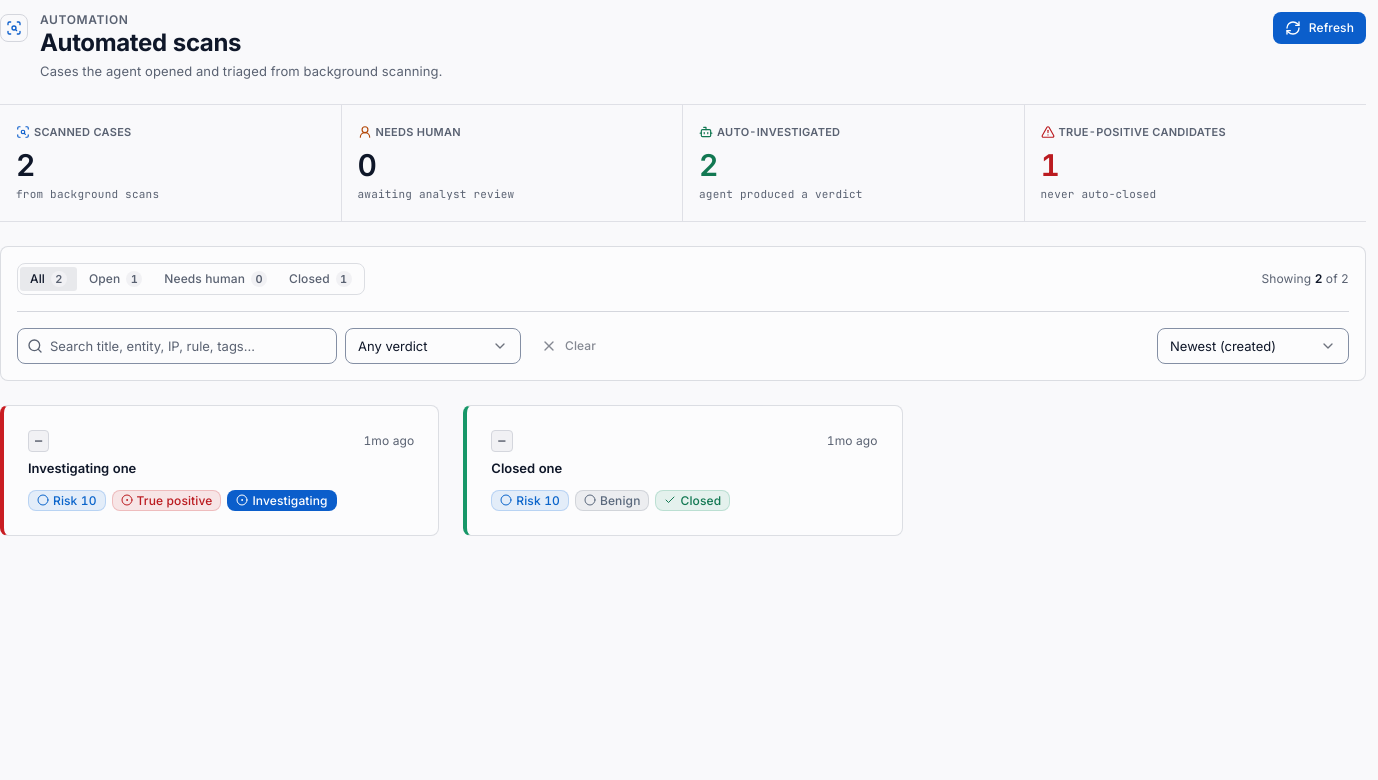
Test: Scans — Round-6 sweep › counts an investigating case under "Open" and keeps pill counts summing to All
Expected: the heading "Investigating one" is shown, [28,460,136,476]
Expected: the heading "Closed one" is shown, [491,460,562,476]
// Filtering to Open shows the investigating case and hides the closed one.
Click the radio button labelled "Open 1": coordinates (116, 279) [79,267,152,291]
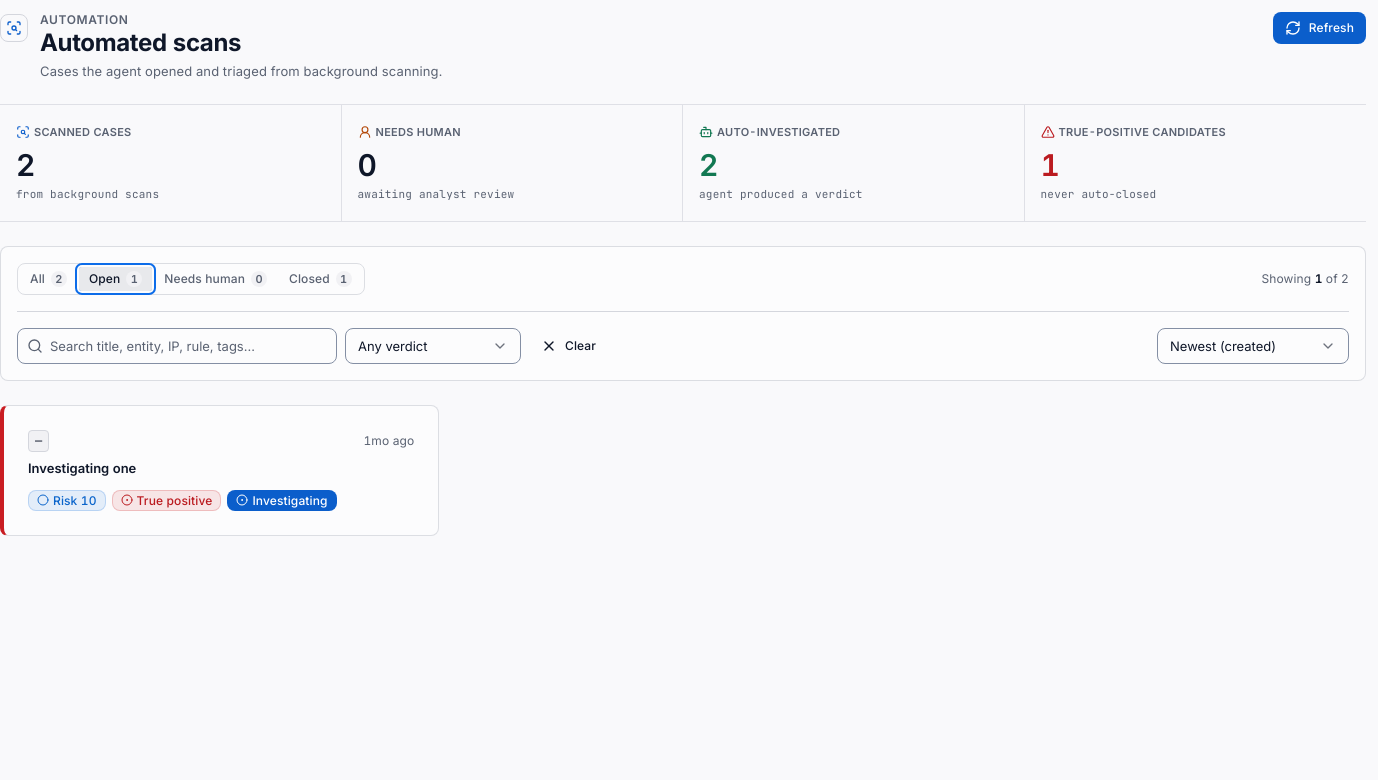
Expected: the heading "Investigating one" is shown, [28,460,136,476]
Expected: the button "Closed one" is gone
